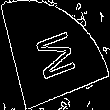M_W: (30, 25, 80, 85)
